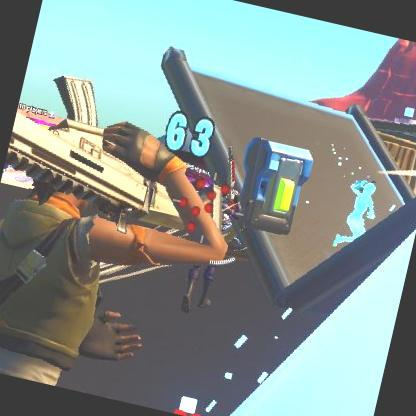person: (338, 175, 377, 256)
